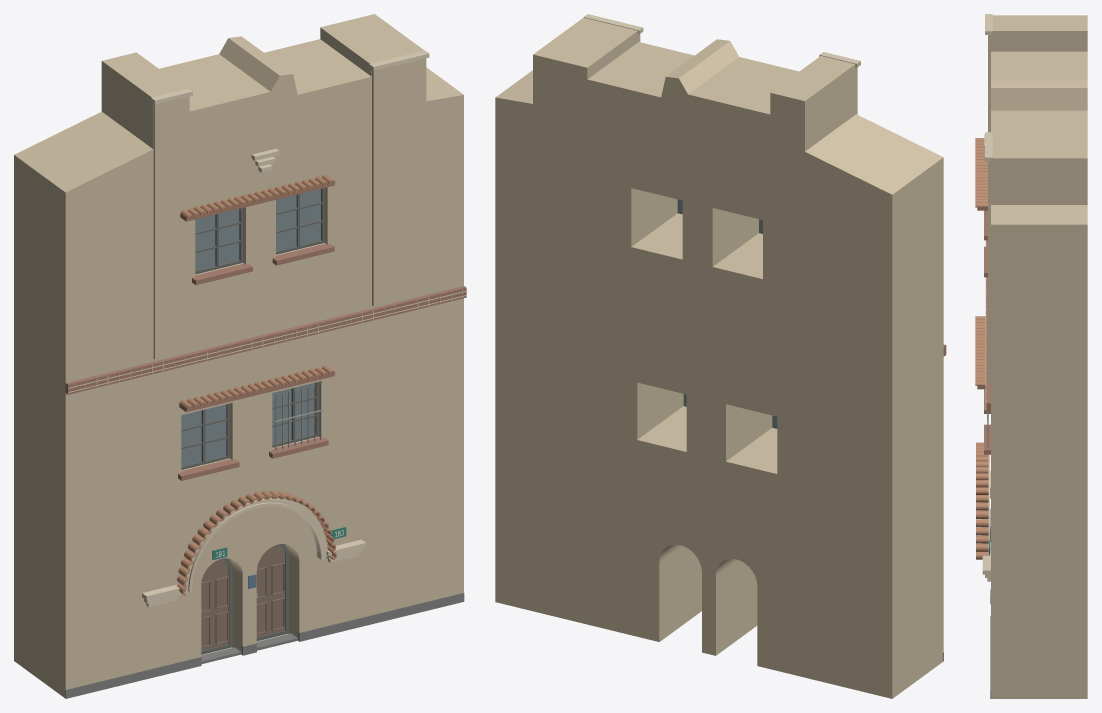
The model's file is xuhui-remi-apartments-181-183-web.glb.
3 views of the same model, side by side, from view 1: azimuth 30°, elevation 25°; view 2: azimuth 150°, elevation 25°; view 3: azimuth 270°, elevation 25° (orthographic). The views are drawn at different scales.
Visible parts, largest first — view 1: 永康新村永康路181、183号双门山墙; view 2: 永康新村永康路181、183号双门山墙; view 3: 永康新村永康路181、183号双门山墙.
Boxes of the visible parts, box(x1,y1,x2,y2) form: 永康新村永康路181、183号双门山墙: box(14, 14, 466, 698); 永康新村永康路181、183号双门山墙: box(495, 14, 946, 698); 永康新村永康路181、183号双门山墙: box(975, 14, 1087, 698).
Bounding box in the file's own units: 7.81 × 10.85 × 2.03.
